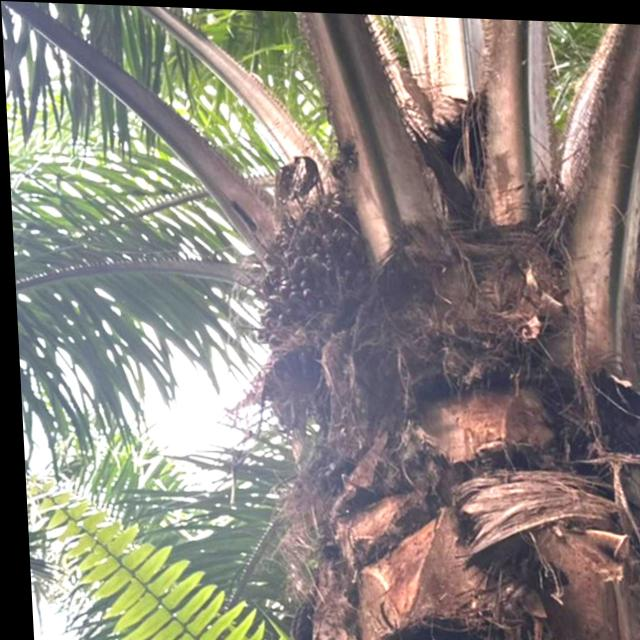ripe: (240, 175, 386, 365)
